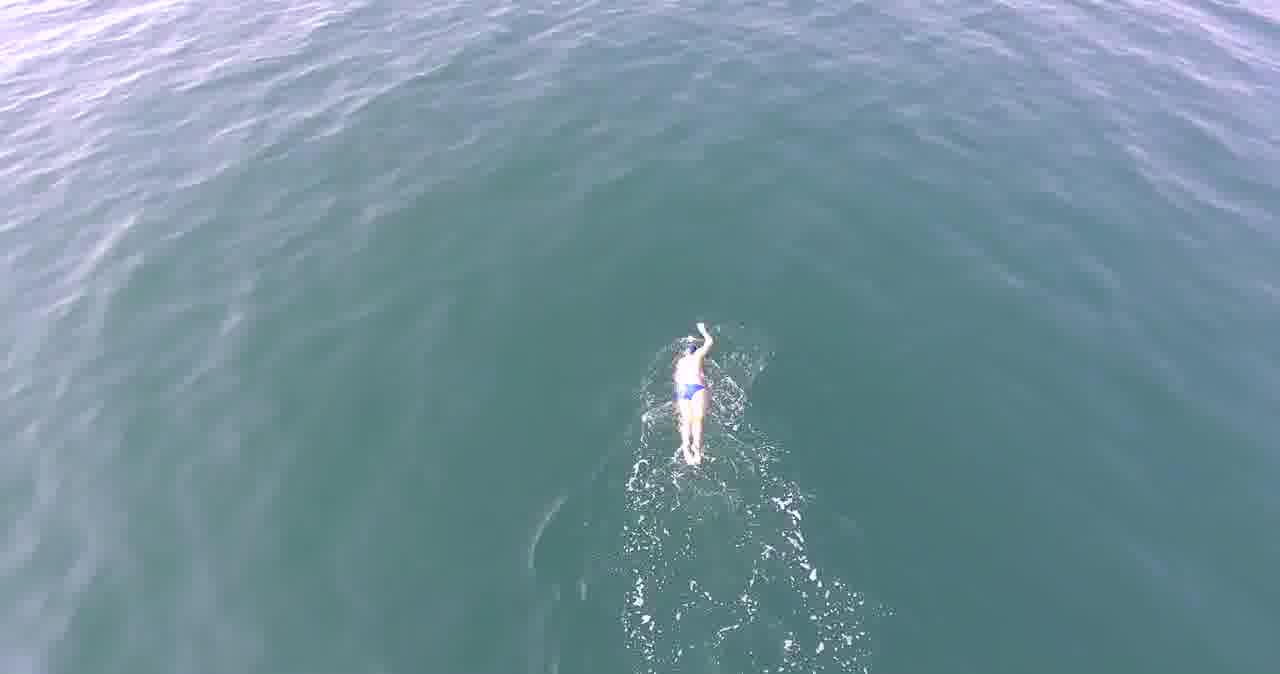human: (665, 317, 714, 468)
